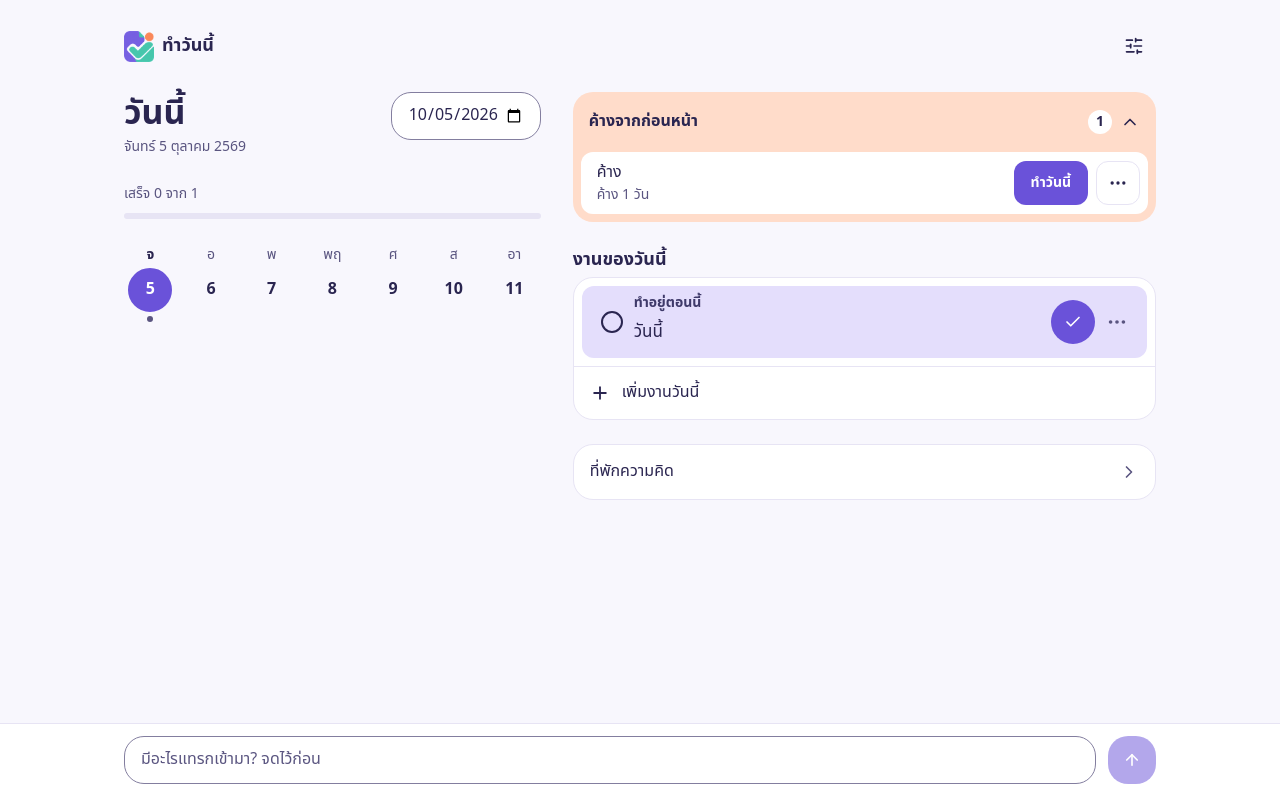
Test: ทำอยู่ตอนนี้ (เฟส 3) › ทำครบวันนี้แต่ยังมีงานค้าง: บอกจำนวนที่ค้างอยู่
Click the button named "เสร็จแล้ว: วันนี้". click: point(1073, 322)
box: [1051,300,1095,344]
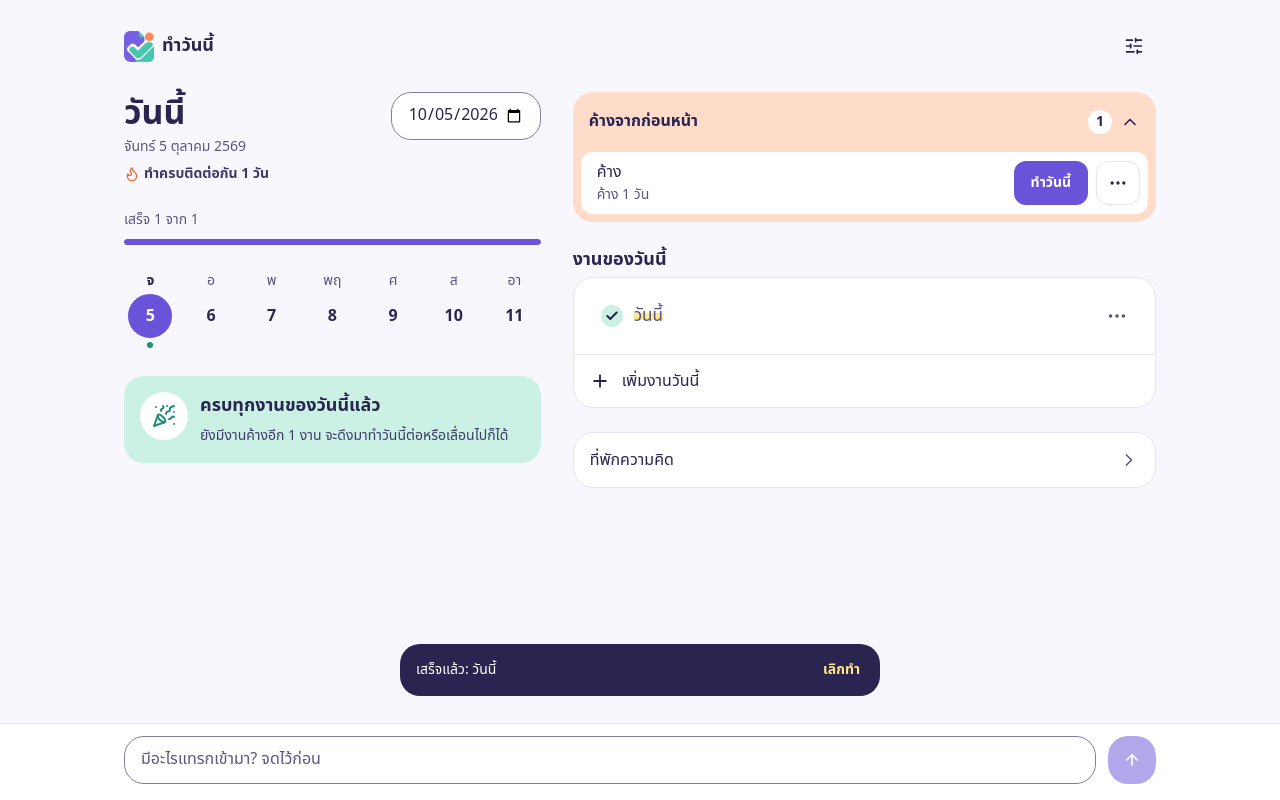
Expected: the element named "ทำครบแล้ว" shows "ยังมีงานค้างอีก 1 งาน", [200,425,508,446]
